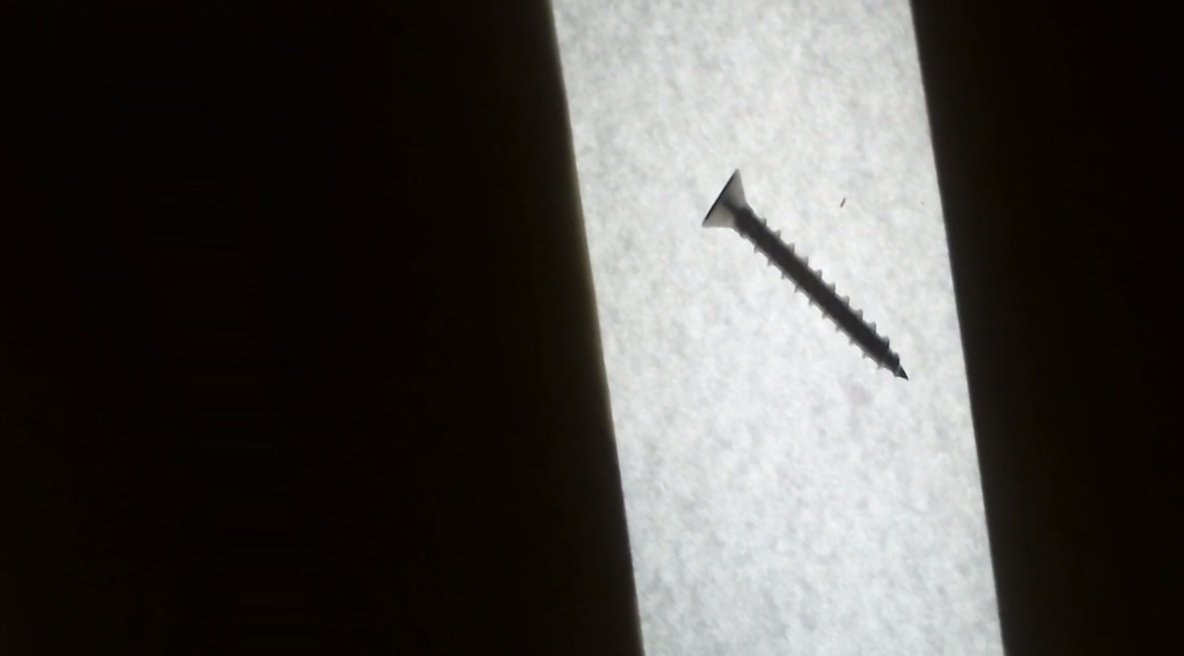S001: (671, 153, 938, 398)
